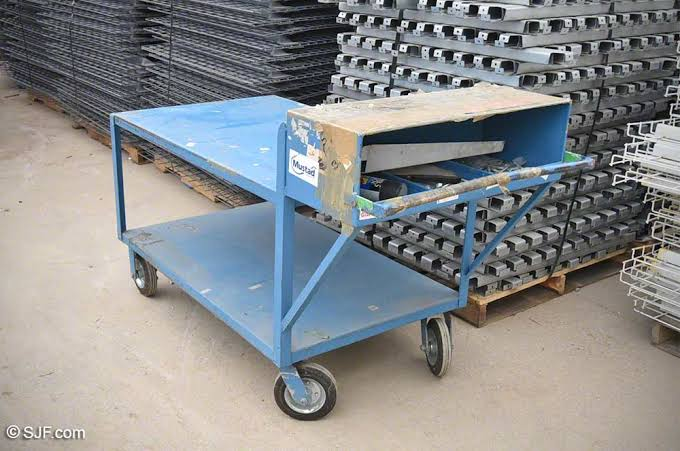Carts: (106, 95, 593, 419)
